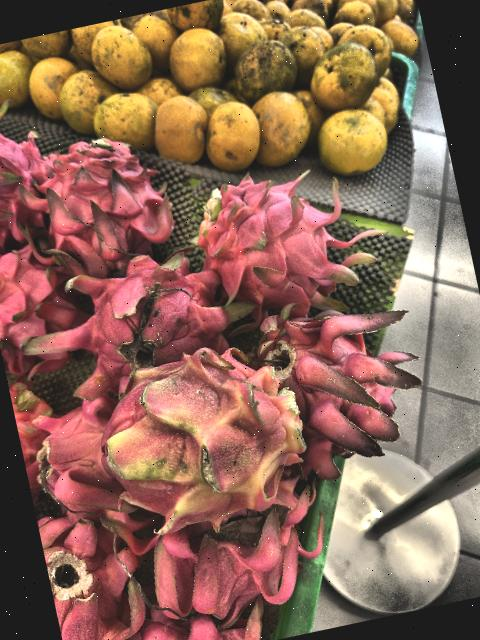buah-naga-belum-matang: (74, 322, 324, 540)
buah-naga-matang: (171, 132, 396, 338), (29, 223, 266, 405), (249, 281, 434, 488), (126, 482, 342, 636), (17, 115, 188, 289), (16, 387, 156, 547), (36, 493, 158, 640), (0, 229, 93, 388), (0, 102, 58, 243)
